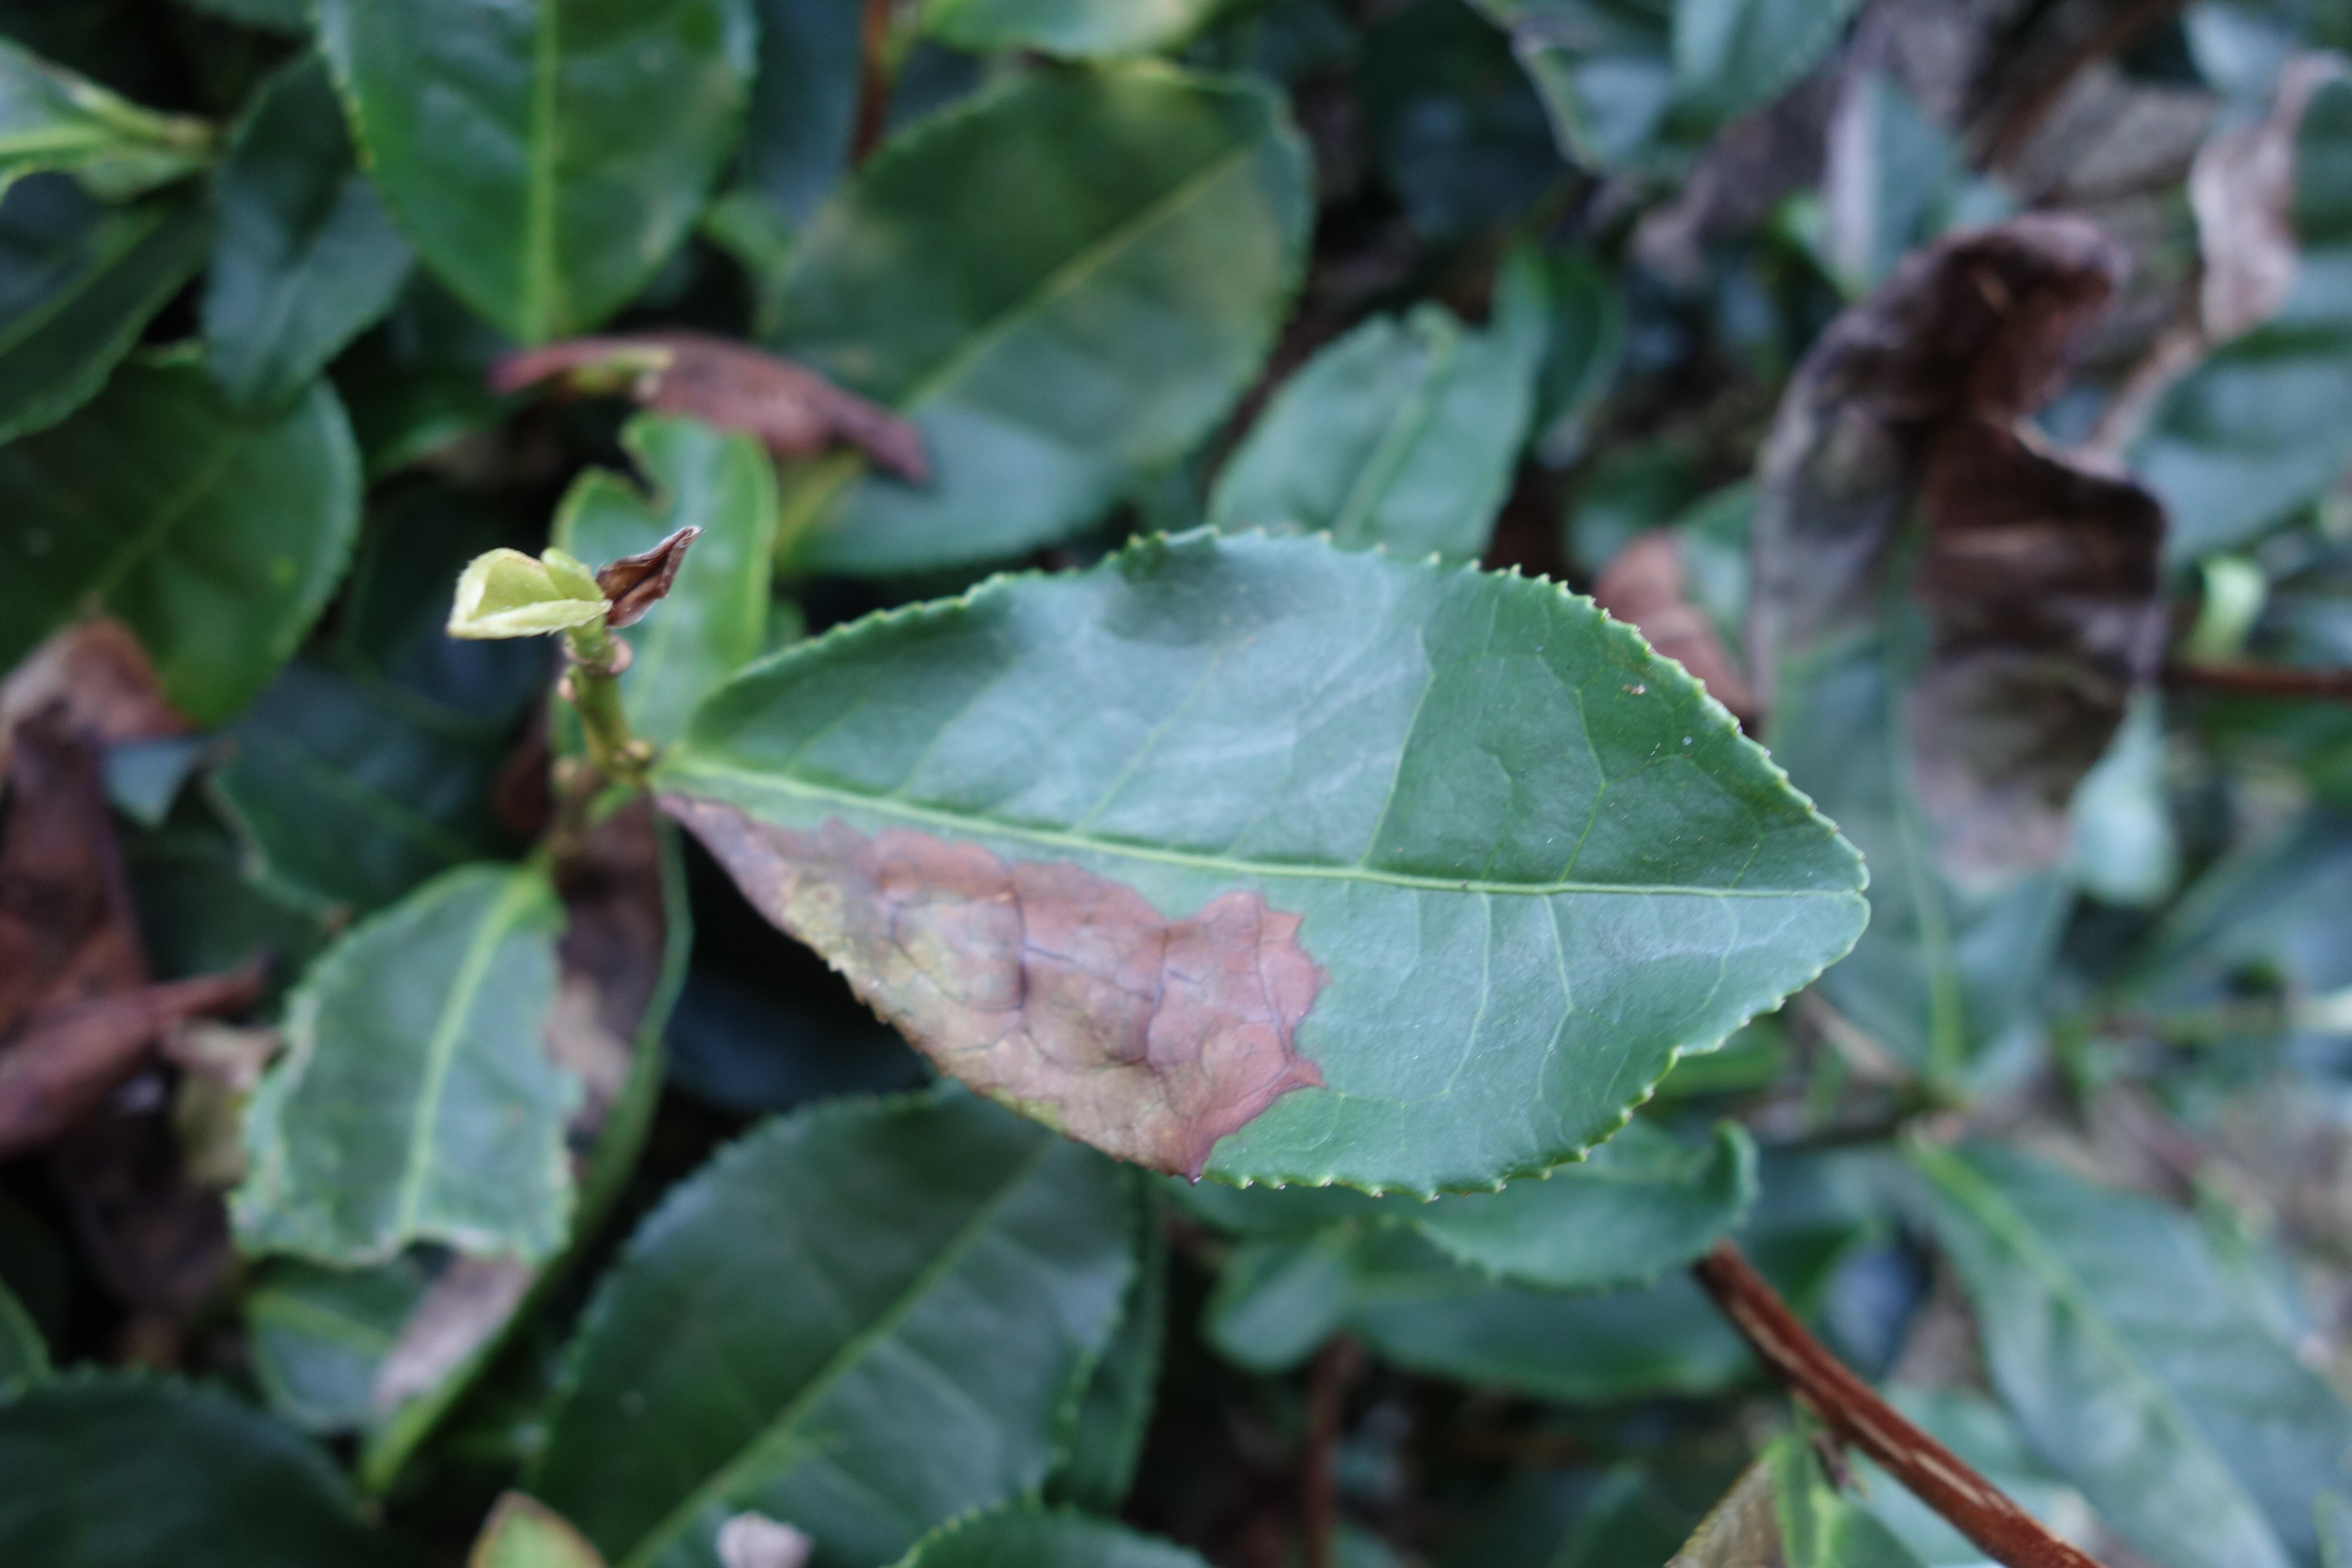tanju_high: (663, 520, 1871, 1197)
